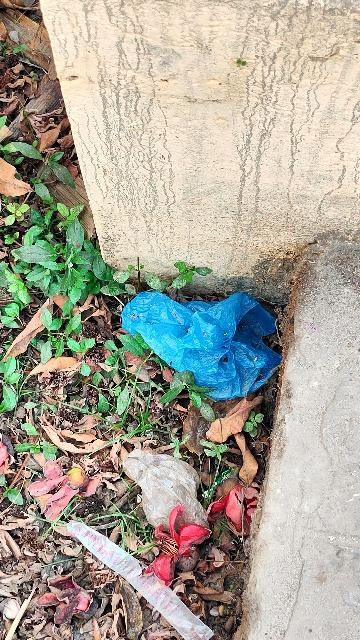polythene: (132, 294, 287, 397), (119, 434, 210, 544)
